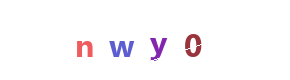0: (153, 0, 233, 80)
N: (61, 0, 141, 80)
W: (97, 0, 177, 80)
Y: (105, 0, 185, 80)
